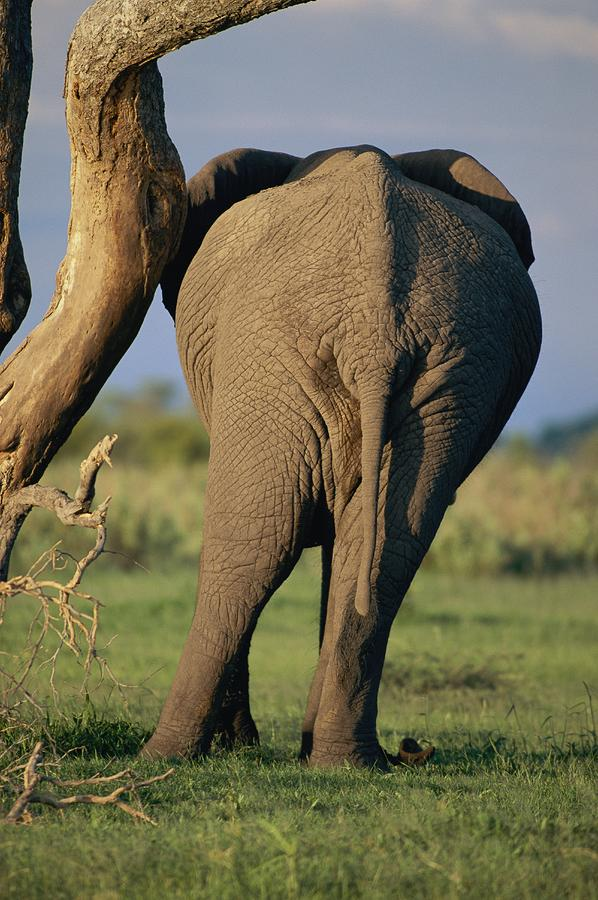elephant: (97, 125, 549, 765)
